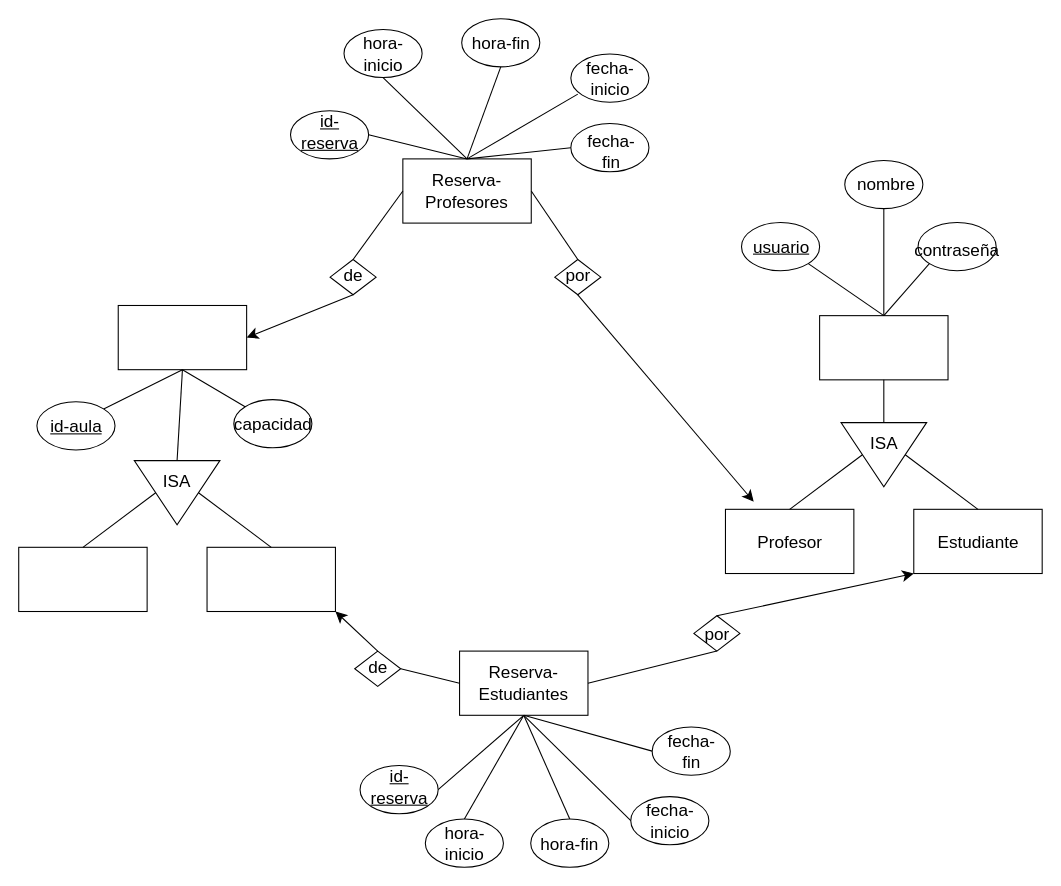
Some shapes in this 1061 by 886 pixel diagram are drawn without their labels. Each missing label, with the centre of its shape:
Aula: (182,337)
Persona: (883,347)
Seminario: (270,579)
Teoría: (82,579)
